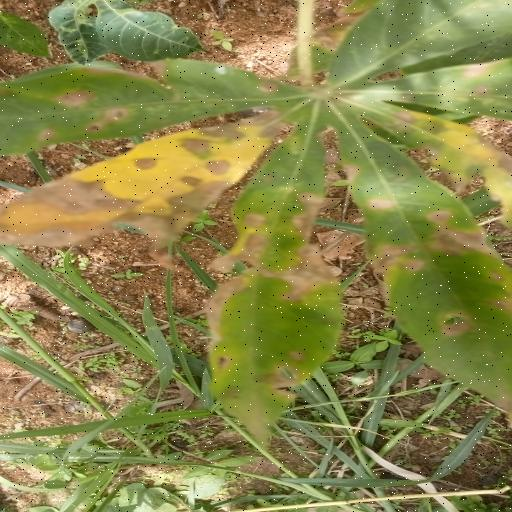Cassava_Brown_Leaf_Spot: (5, 0, 512, 448)
